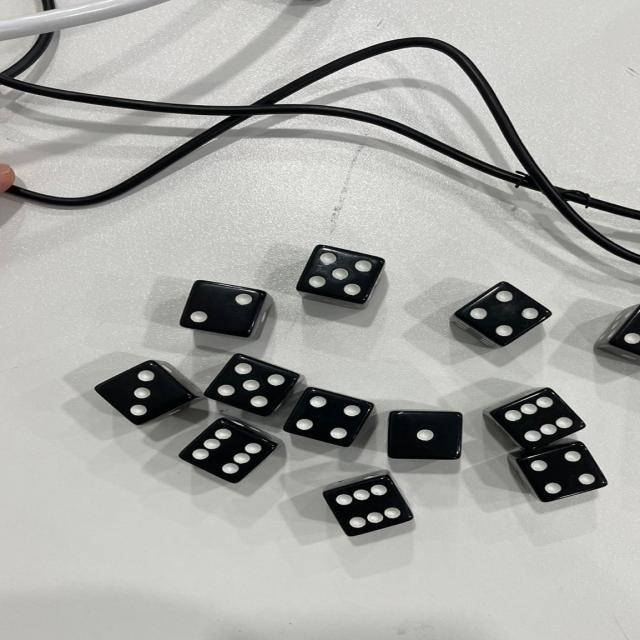DICE1: (372, 418, 483, 458)
DICE2: (172, 281, 289, 343)
DICE3: (82, 362, 184, 424), (586, 305, 640, 380)
DICE4: (452, 274, 558, 352), (280, 381, 381, 453), (528, 449, 610, 502)
DICE5: (294, 242, 412, 318), (210, 354, 314, 421)
DICE6: (294, 472, 438, 545), (172, 418, 287, 484), (489, 376, 585, 450)
